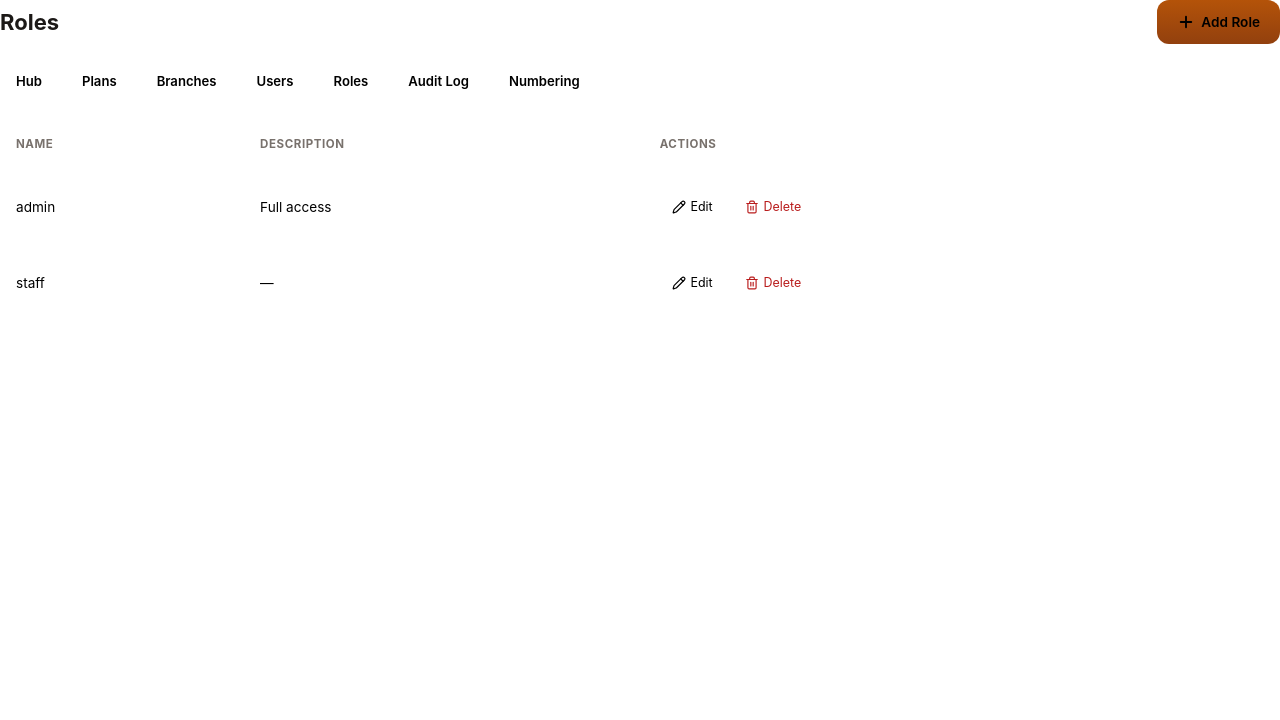
Test: ManageRolesPage — add / edit / delete › deletes after confirmation and shows the server’s "in use" message verbatim when blocked
The image size is (1280, 720).
Click the button with aria-label "Delete staff": (773, 283) [733,261,813,305]
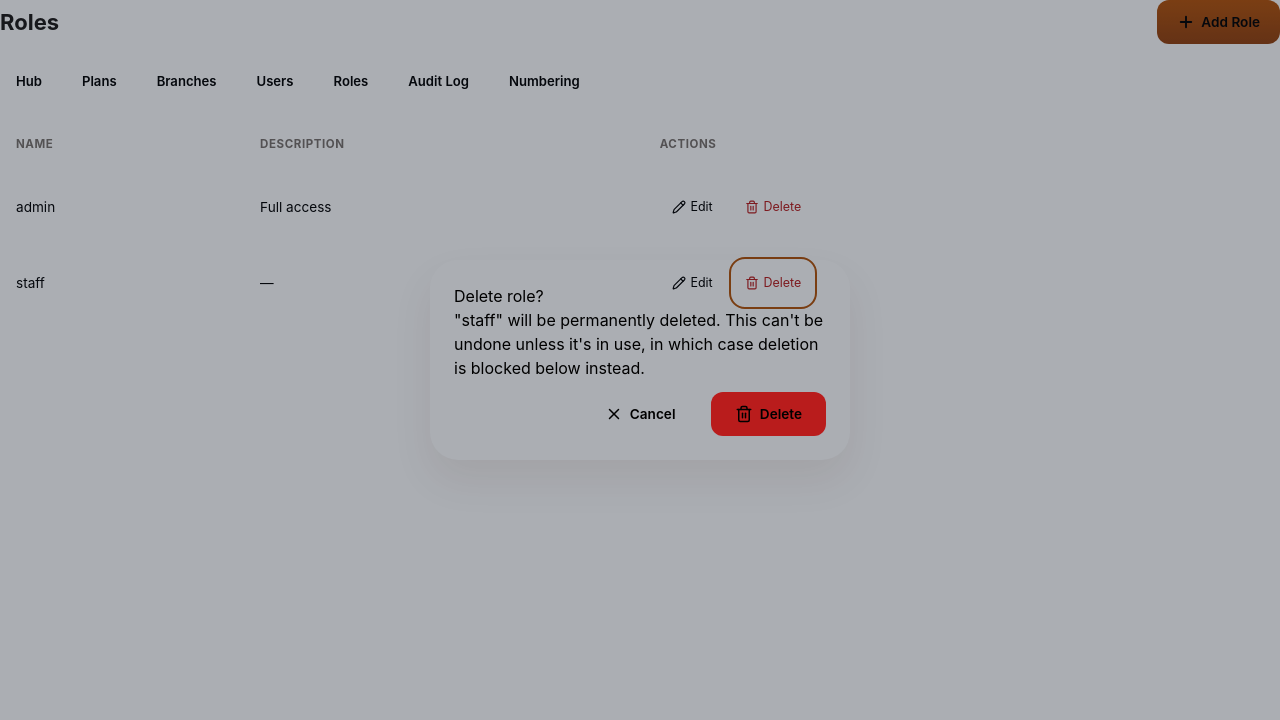
Now the heading "Delete role?" is shown, box [454,286,544,306]
Click the button "Delete": (769, 414) [712,392,826,436]
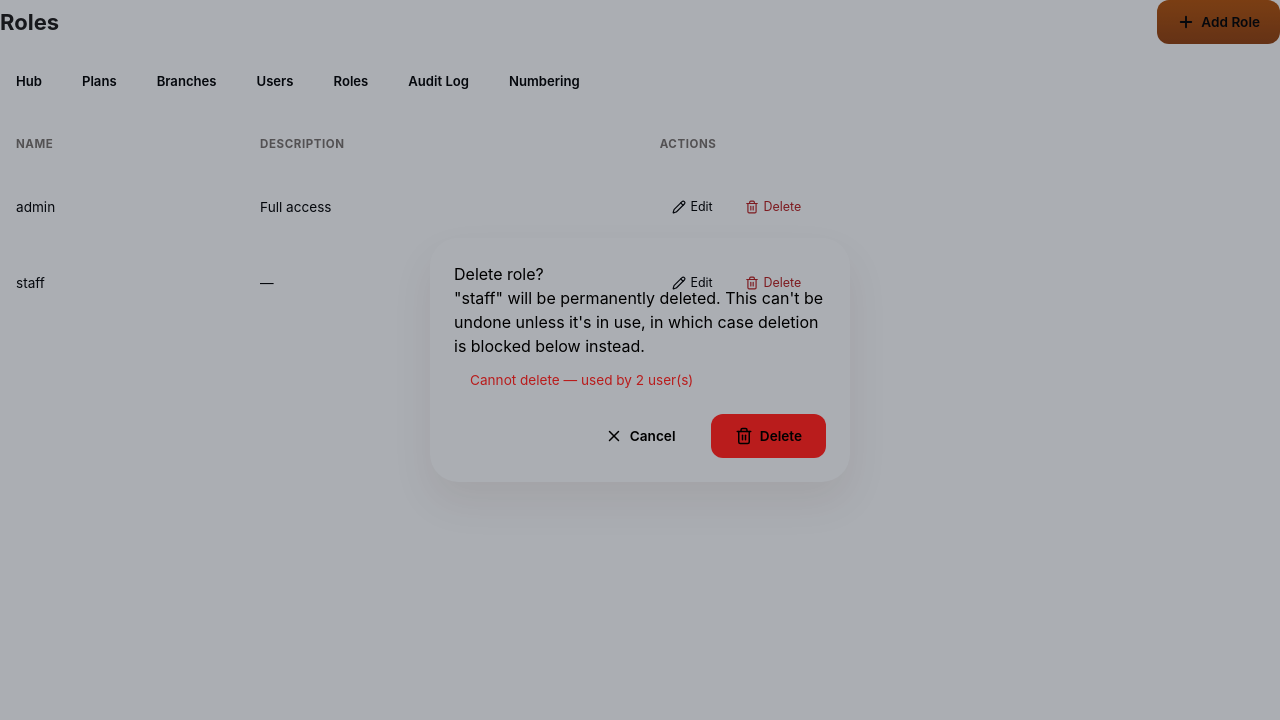
Now the text "Cannot delete — used by 2 user(s)" is shown, box [470,372,693,388]
Click the button "Delete": (769, 436) [712,414,826,458]
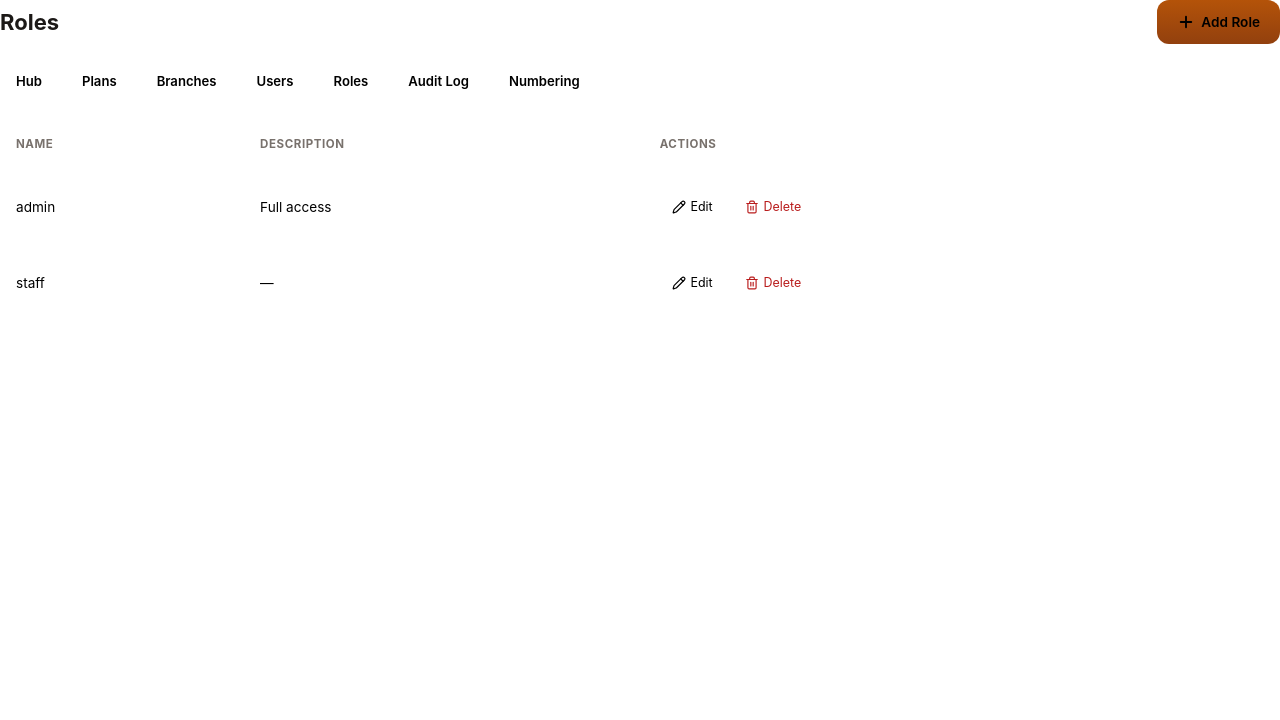
Now the heading "Delete role?" is gone
